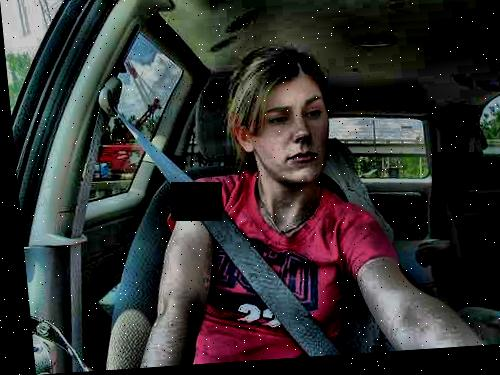seatbelt: (58, 92, 285, 344)
